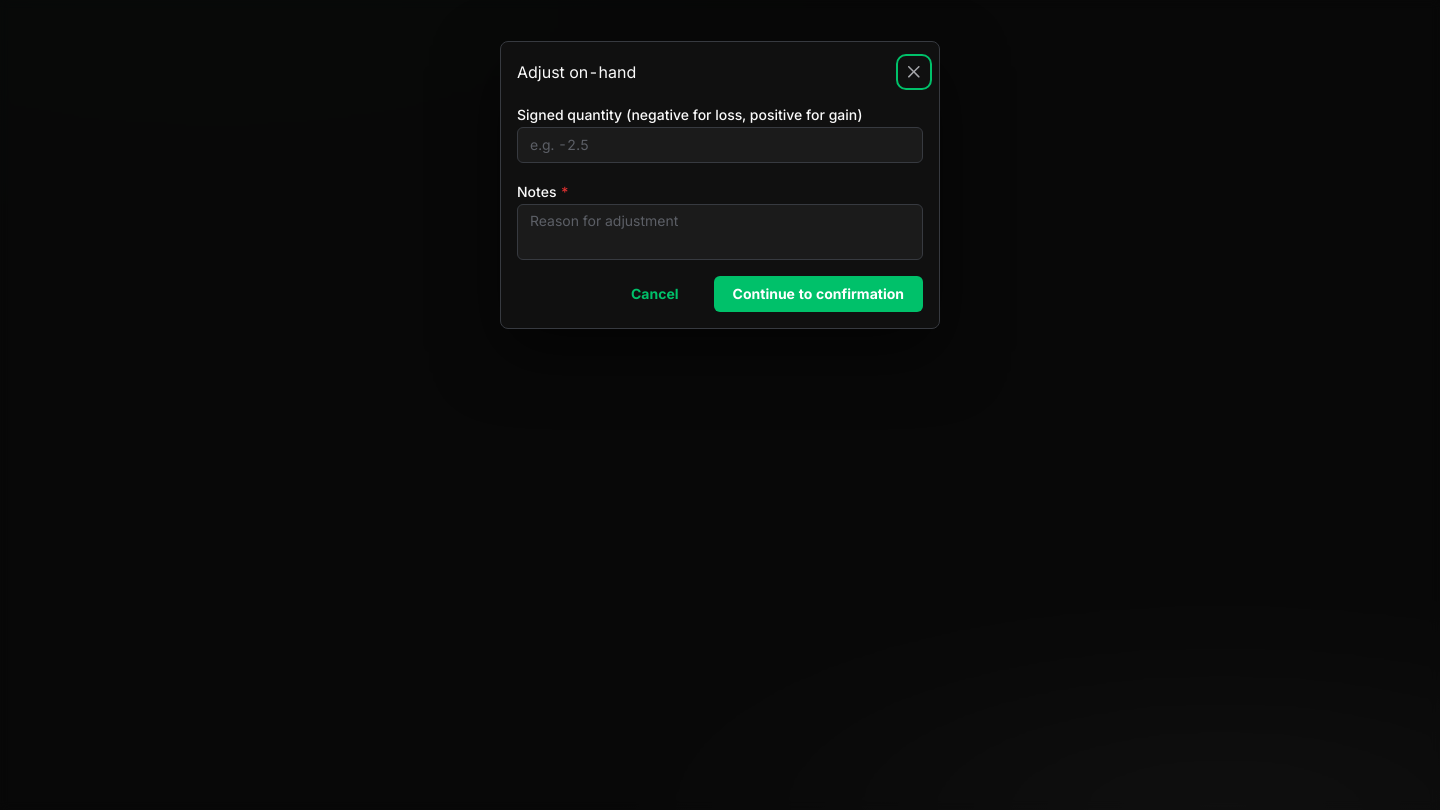
Scenario: AdjustModal › validation: empty notes shows "Notes are required" error
Expected: the dialog is shown, 500,40 -> 940,328
// Fill signed_qty but leave notes empty
In the field labelled "Signed quantity (negative for loss, positive for gain)": (720, 144) 517,126 -> 923,162, type "-2.5"
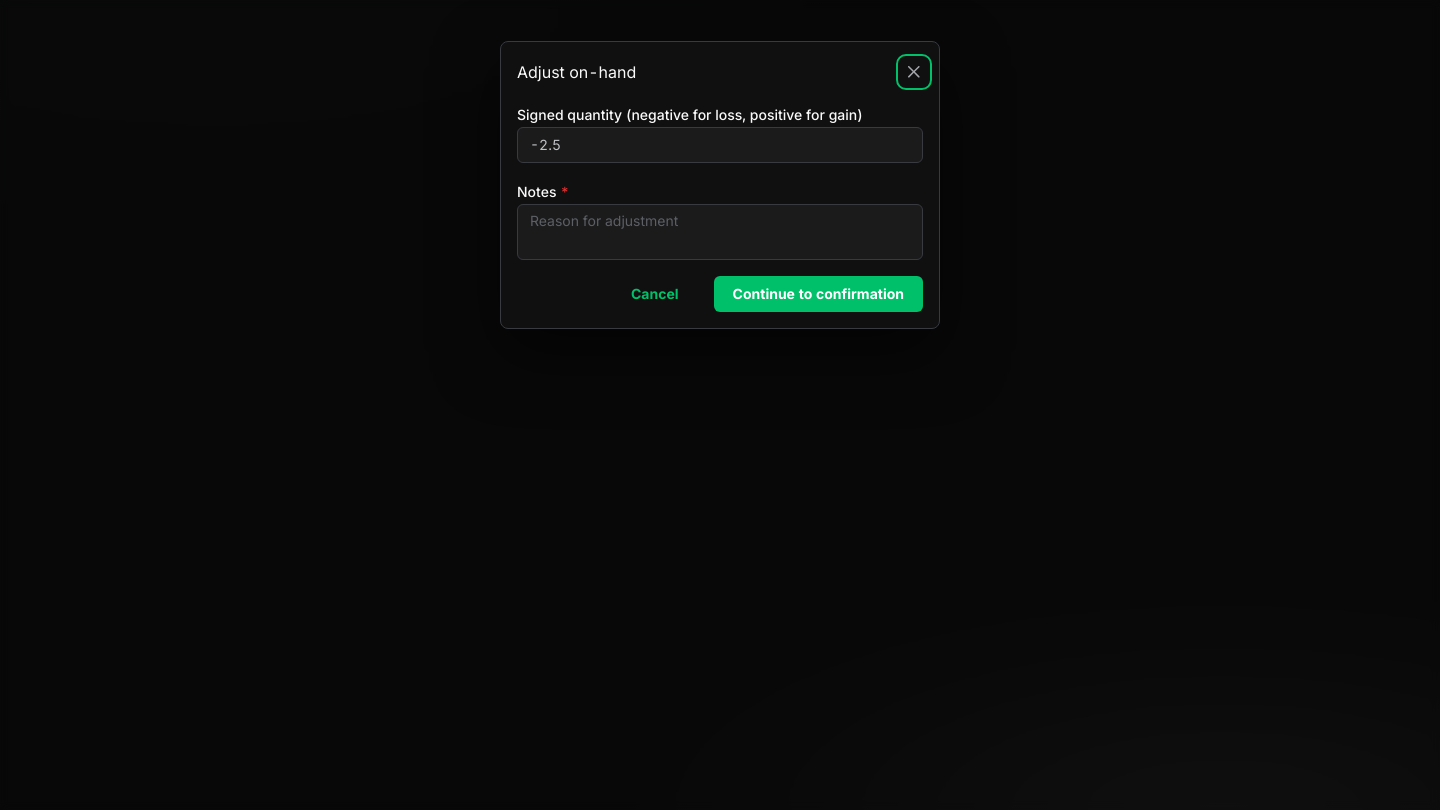
Click the button "Continue to confirmation": (818, 294) 714,276 -> 923,312
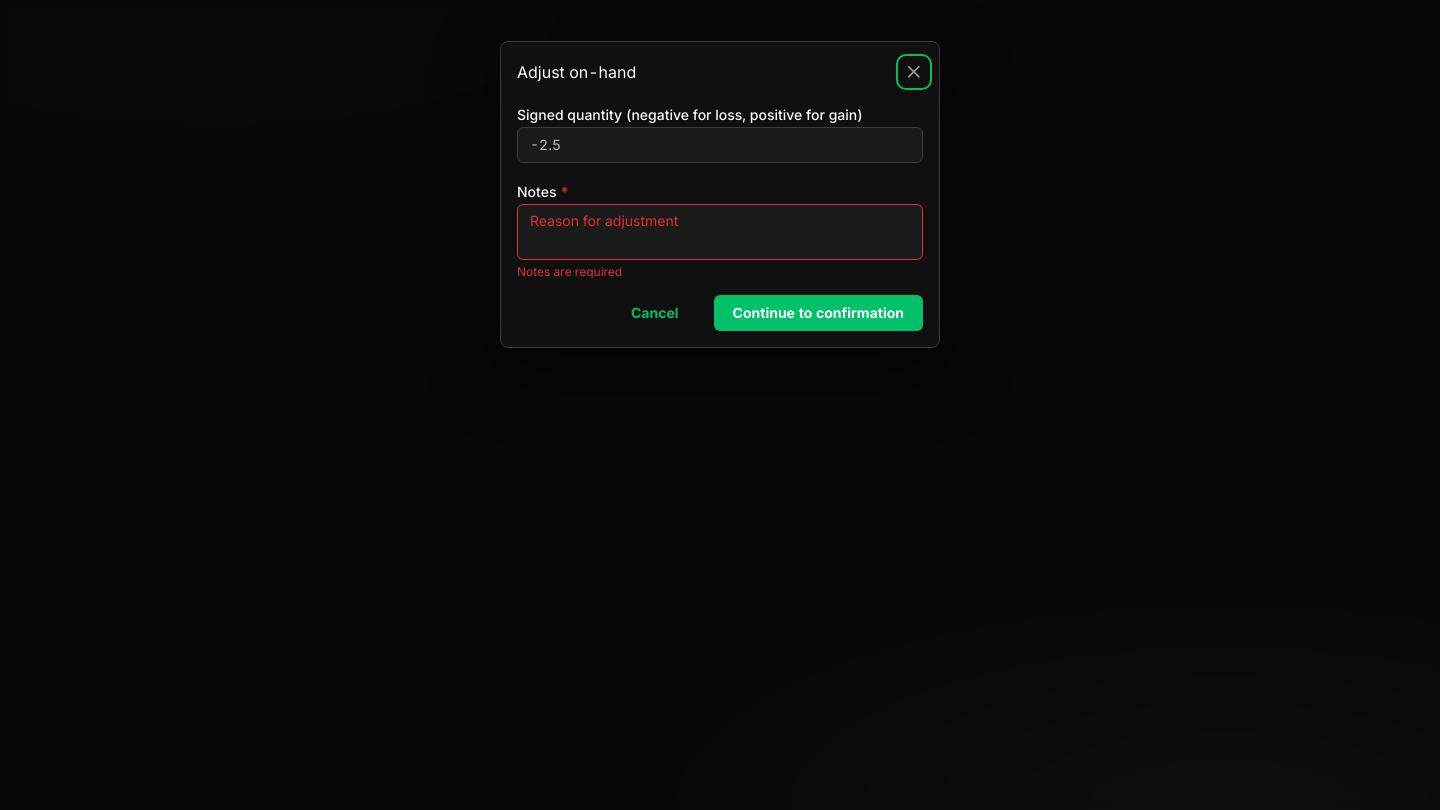
Now the text "Notes are required" is shown, box 517,264 -> 622,278
